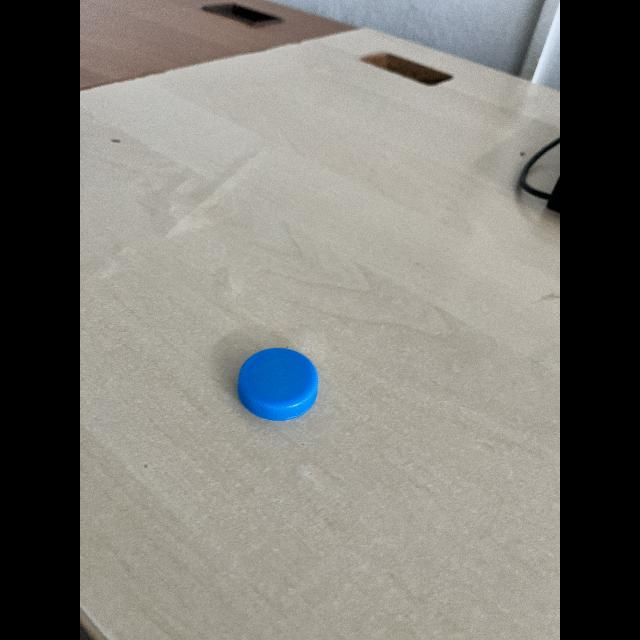plastic_bottle_cap: (233, 343, 323, 431)
